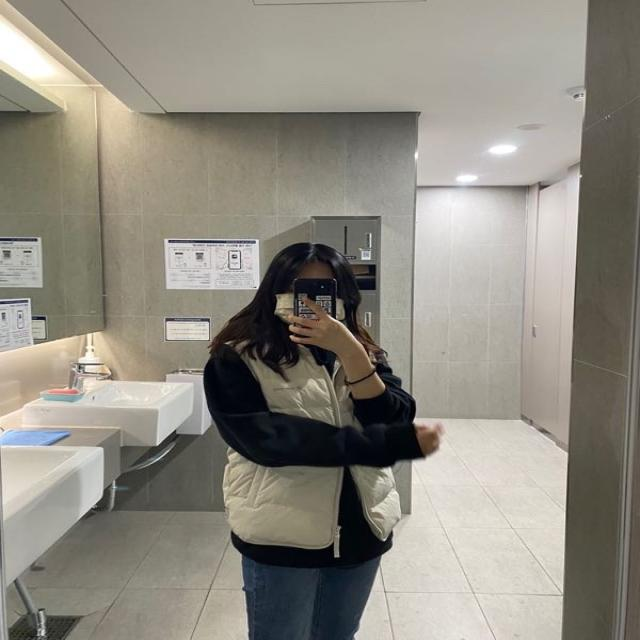denimpants: (232, 533, 381, 640)
padding: (222, 326, 406, 553)
